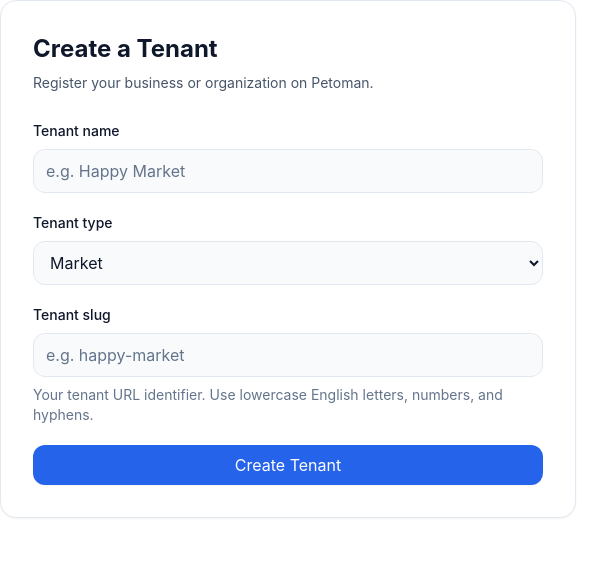
it: CreateTenantForm › does not submit when tenant name is empty
Type "my-tenant" into the field labelled "Tenant slug". click: x=288, y=355
box: [33,333,543,377]
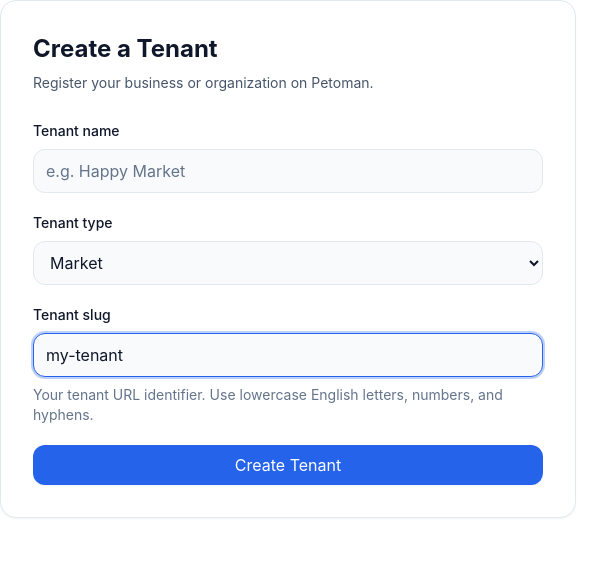
Click the button "Create Tenant". click: x=288, y=465
box: [33,445,543,485]
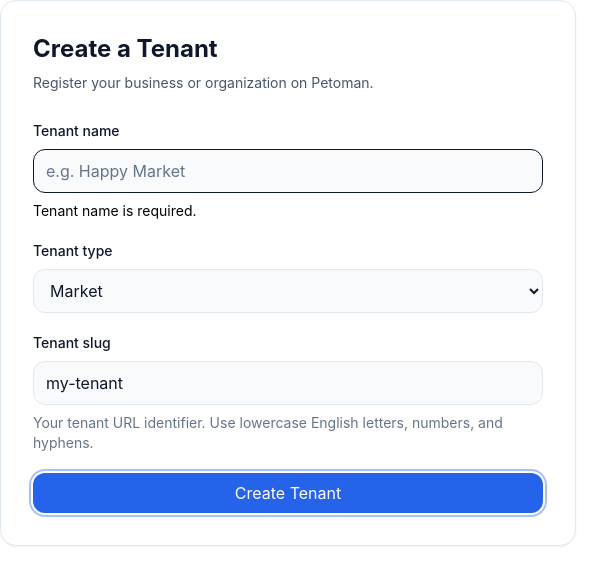
Expected: the text "Tenant name is required." is shown, [33,202,196,219]
